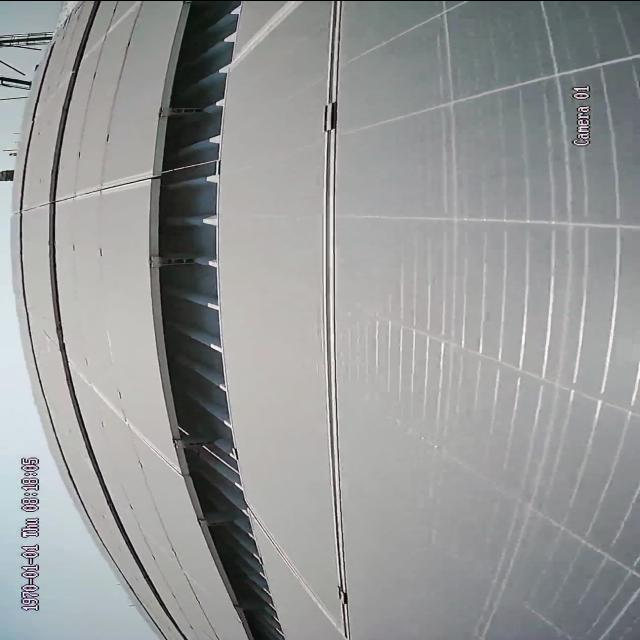interior panel: (323, 3, 351, 630), (69, 356, 172, 467), (64, 173, 141, 204)
outher panel: (148, 0, 284, 640)
